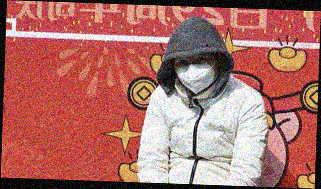with_mask: (174, 53, 221, 97)
